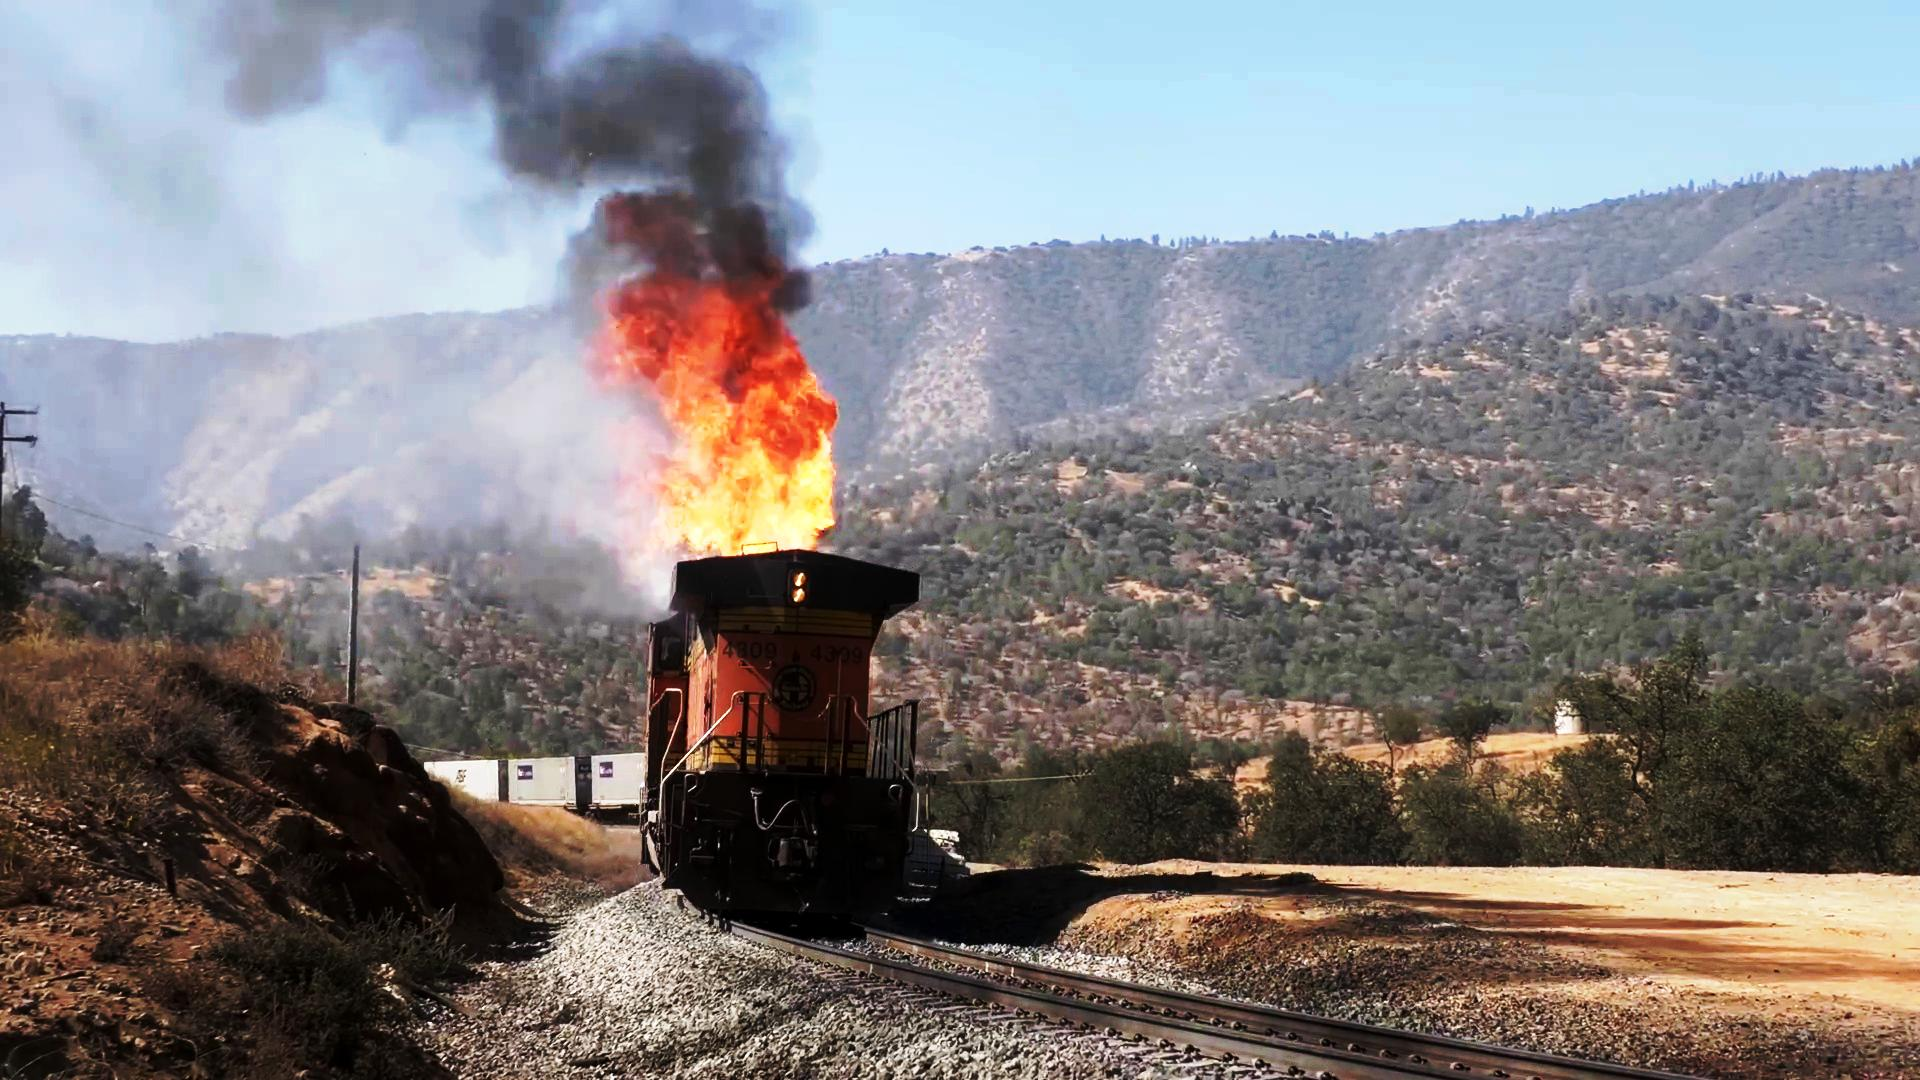fire: (605, 262, 825, 568)
smoke: (326, 0, 825, 245)
